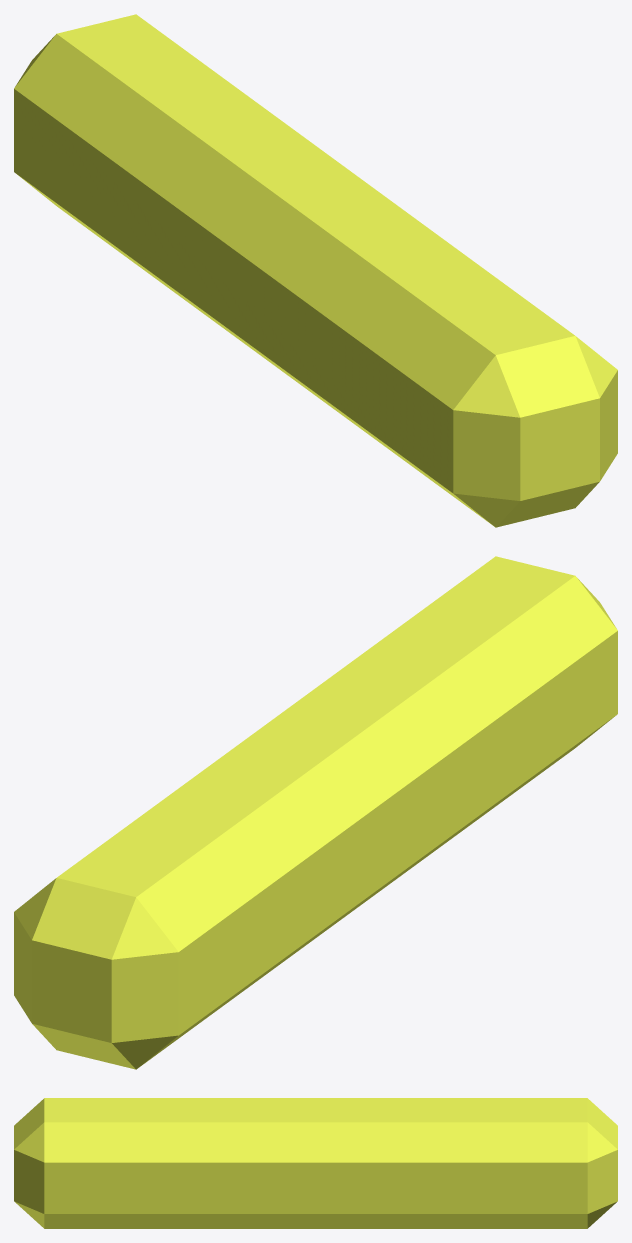
Rendered from bullet.obj.
3 views of the same model, one above another, from view 1: azimuth 30°, elevation 25°; view 2: azimuth 150°, elevation 25°; view 3: azimuth 270°, elevation 25° (orthographic). The views are drawn at different scales.
Visible parts, largest first — view 1: Cube; view 2: Cube; view 3: Cube.
Boxes of the visible parts, x1,y1,x2,y2 form: Cube: (14, 14, 617, 527); Cube: (14, 556, 617, 1069); Cube: (14, 1098, 617, 1228).
Size of the model in its own units: 0.3223 by 0.3223 by 1.65.
1 material, 1 textured.
